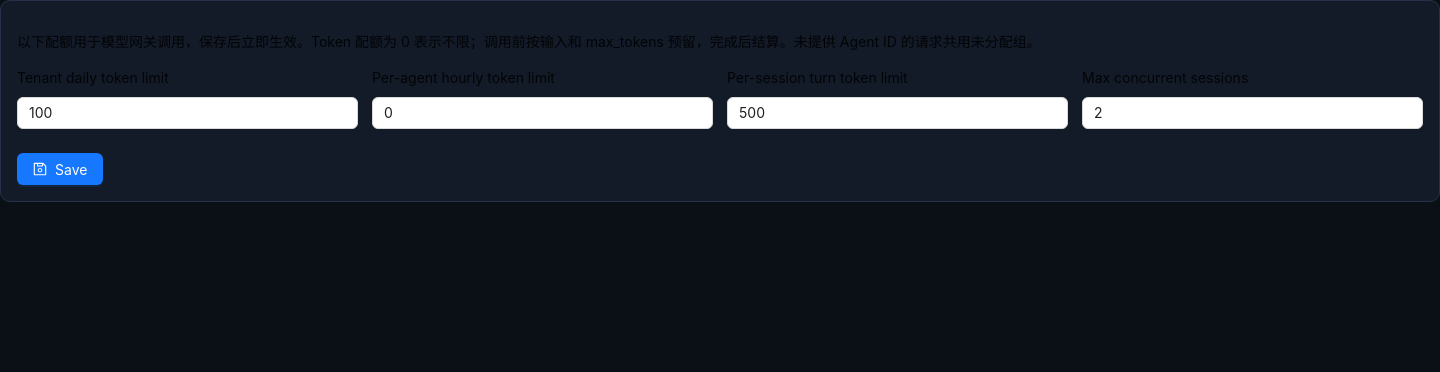
Test: retains a conflicting quota draft and prevents a stale retry
The width and height of the screenshot is (1440, 372).
Replace the text in the number field labelled "Tenant daily token limit" with "250": (188, 113) left=18, top=98, right=357, bottom=128
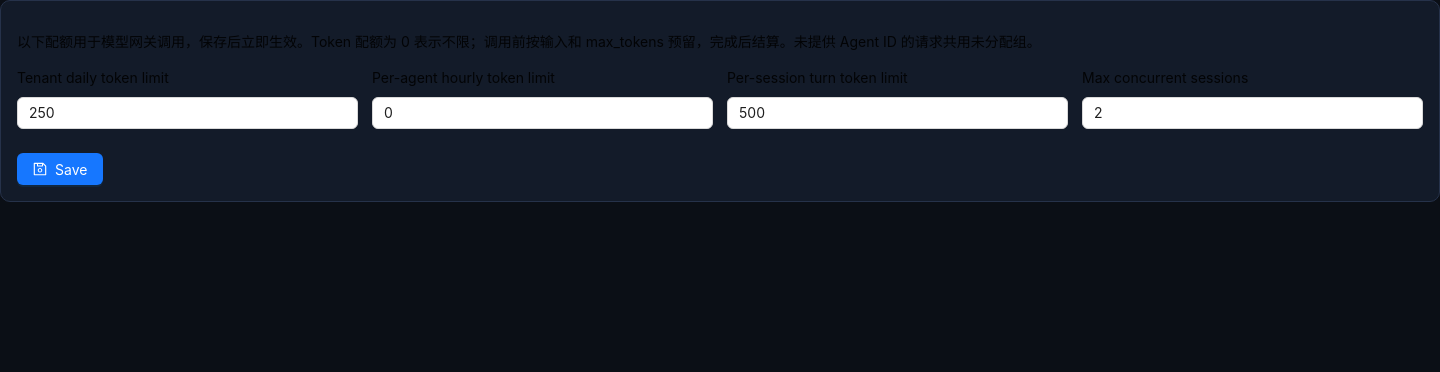
Click the button "Save": (60, 169) left=17, top=153, right=103, bottom=185
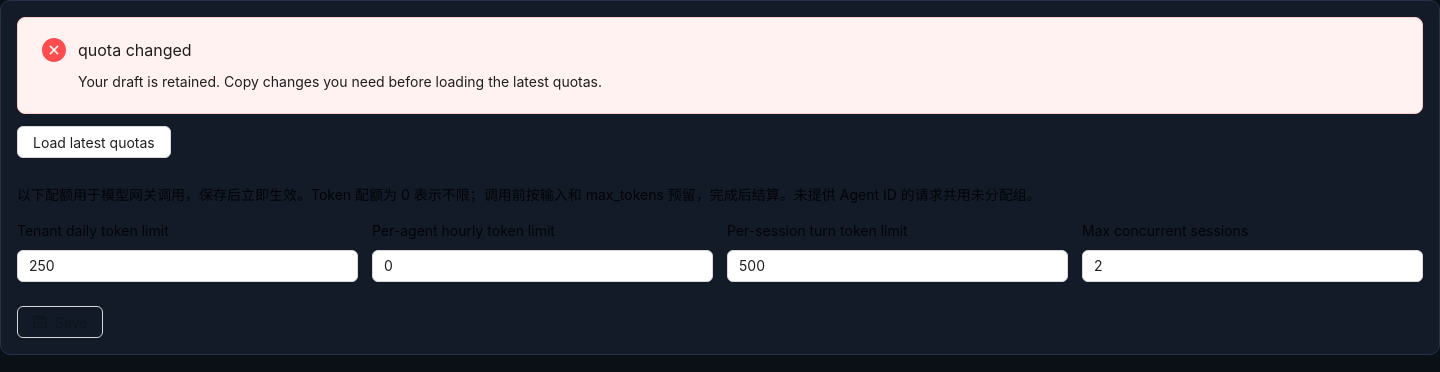
Expected: the button "Save" is disabled, left=17, top=306, right=103, bottom=338
Now the text "quota changed" is shown, box left=78, top=40, right=192, bottom=60
Now the button "Load latest quotas" is shown, box left=17, top=126, right=171, bottom=158
